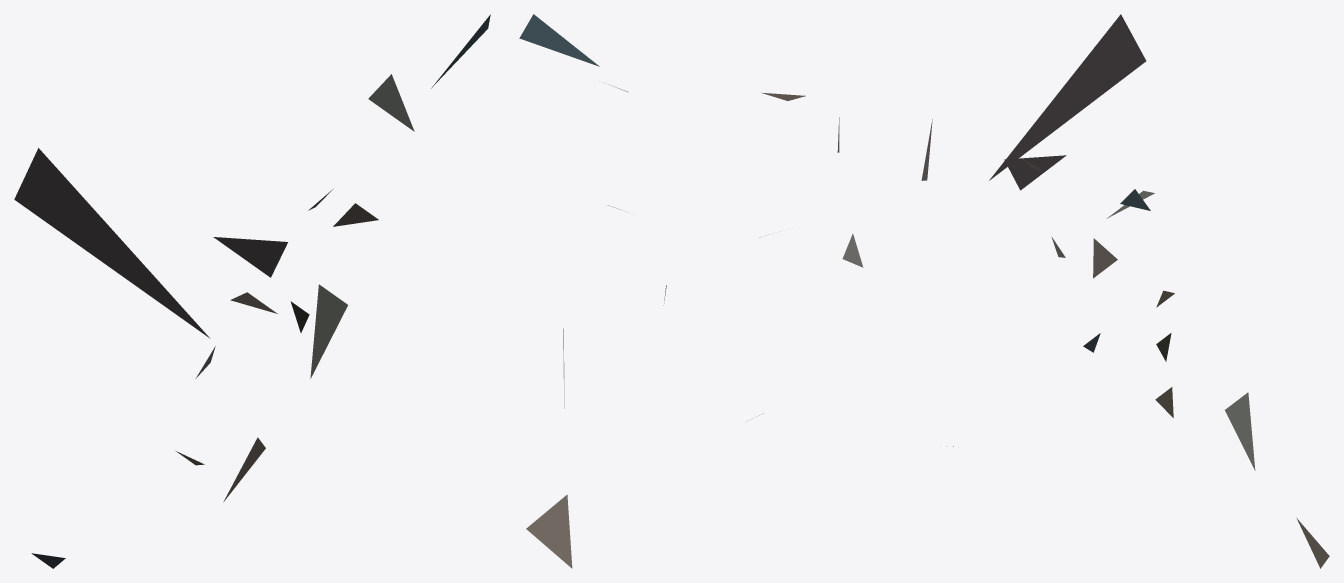
3 views of the same model, side by side, from view 1: azimuth 30°, elevation 25°; view 2: azimuth 150°, elevation 25°; view 3: azimuth 270°, elevation 25° (orthographic). The views are drawn at different scales.
Bounding box in the file's own units: 257 × 269 × 187.
